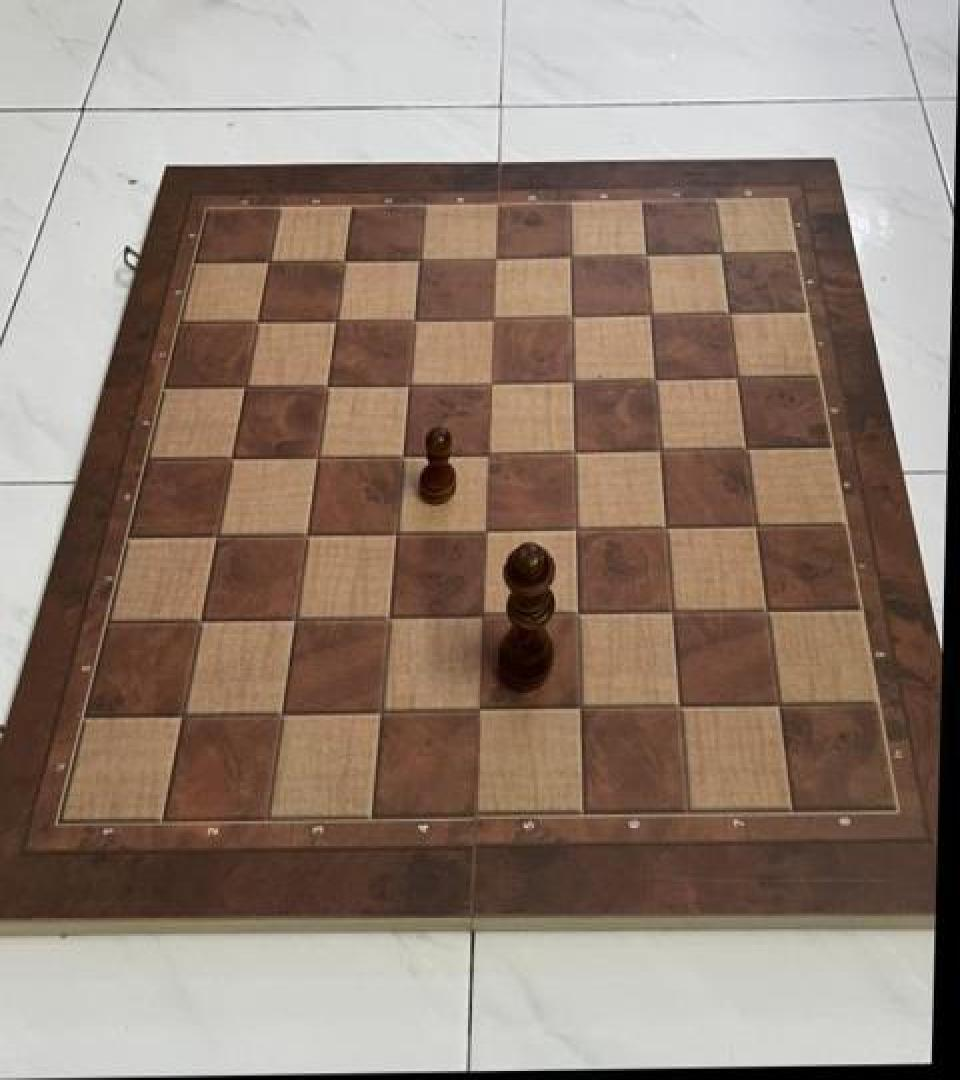xcorner: (551, 235, 587, 276), (475, 236, 511, 277), (394, 298, 430, 339), (316, 299, 352, 340), (471, 362, 507, 403), (389, 363, 425, 404), (468, 433, 504, 474), (382, 434, 418, 475), (737, 507, 773, 548), (286, 514, 322, 555), (197, 515, 233, 556), (558, 595, 594, 636), (463, 596, 499, 637), (368, 597, 404, 638), (760, 687, 796, 728), (163, 694, 199, 735), (704, 232, 740, 272), (627, 234, 663, 274), (399, 239, 435, 279), (324, 240, 360, 280), (249, 242, 285, 282), (711, 293, 747, 333), (631, 294, 667, 334), (552, 295, 588, 335), (473, 297, 509, 337), (237, 302, 273, 342), (719, 358, 755, 398), (636, 359, 672, 399), (553, 360, 589, 400), (307, 365, 343, 405), (225, 367, 261, 407), (728, 429, 764, 469), (641, 430, 677, 470), (555, 432, 591, 472), (297, 437, 333, 477), (211, 438, 247, 478), (647, 509, 683, 549), (556, 510, 592, 550), (466, 511, 502, 551), (376, 512, 412, 552), (748, 593, 784, 633), (653, 594, 689, 634), (274, 600, 310, 640), (180, 601, 216, 641), (659, 689, 695, 729), (559, 690, 595, 730), (460, 691, 496, 731), (360, 692, 396, 732), (261, 693, 297, 733)
